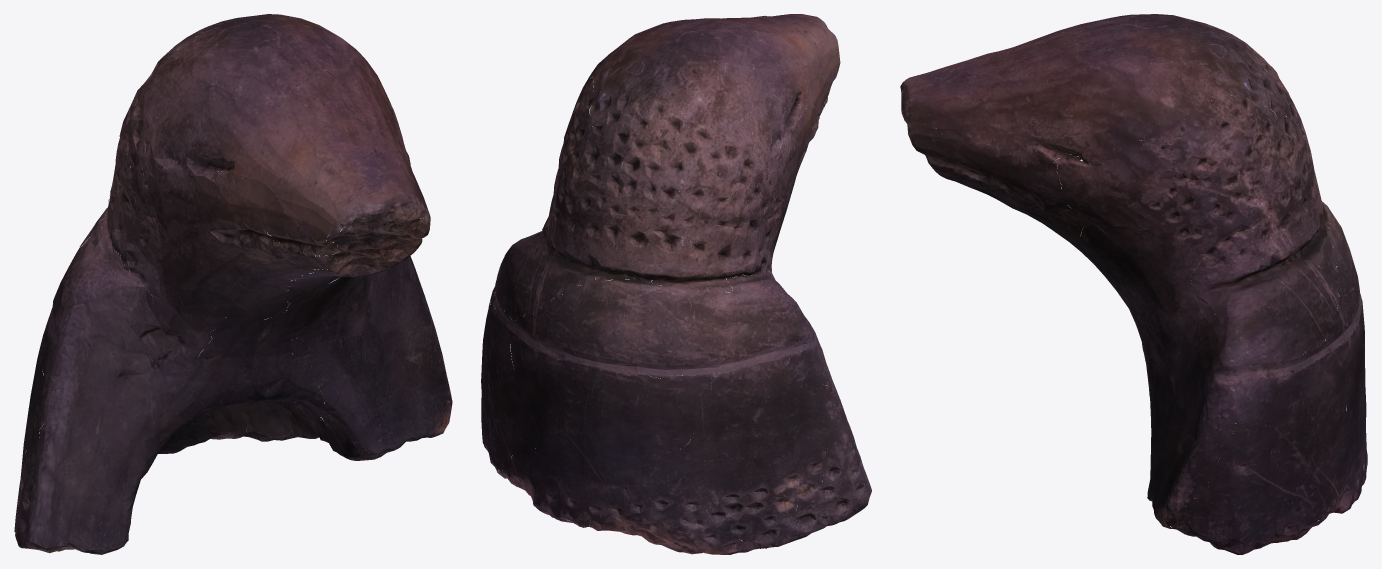
File: Objeto_05_4k-b.glb
3 views of the same model, side by side, from view 1: azimuth 30°, elevation 25°; view 2: azimuth 150°, elevation 25°; view 3: azimuth 270°, elevation 25° (orthographic). The views are drawn at different scales.
Visible parts, largest first — view 1: Mesh_0; view 2: Mesh_0; view 3: Mesh_0.
Part boxes in pixels (left/top/right/bottom): Mesh_0: left=14, top=14, right=452, bottom=554; Mesh_0: left=481, top=14, right=871, bottom=554; Mesh_0: left=900, top=14, right=1367, bottom=554.
Size of the model in its own units: 0.0636 by 0.0738 by 0.0645.
1 material, 1 textured.
